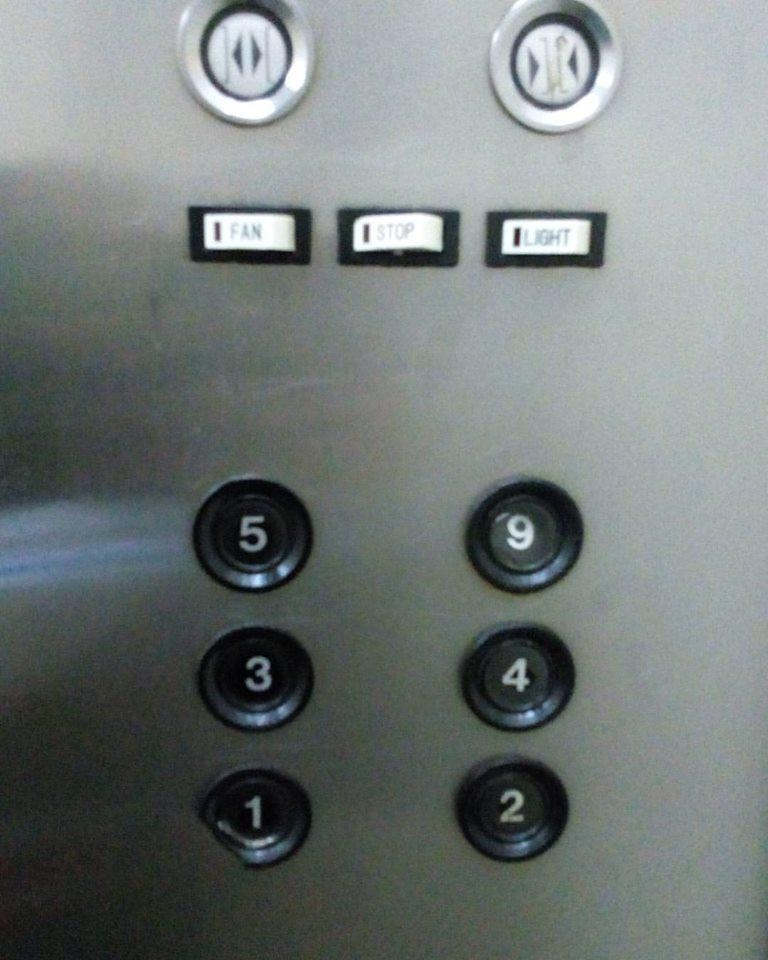1: (194, 758, 317, 877)
2: (450, 751, 575, 866)
3: (192, 619, 320, 737)
4: (456, 617, 580, 736)
5: (189, 473, 315, 595)
9: (462, 476, 589, 596)
close: (481, 1, 630, 143)
open: (169, 1, 323, 135)
switch: (179, 198, 318, 271), (330, 201, 468, 274), (479, 203, 612, 273)
